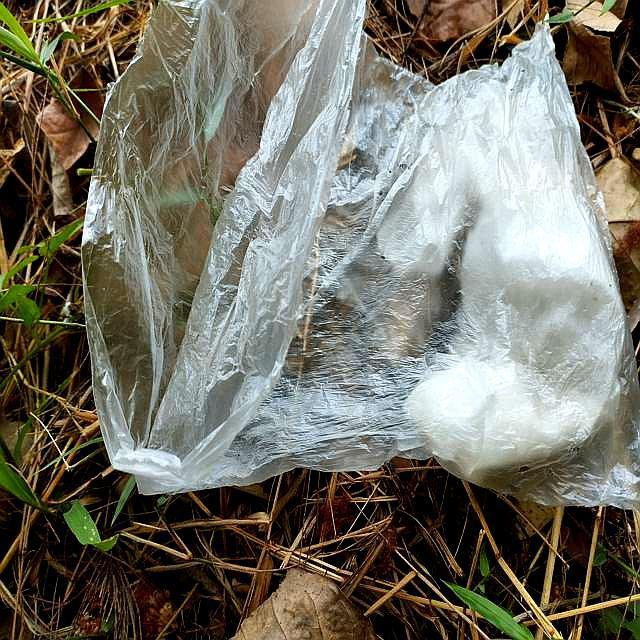Non-biodegradable: (80, 2, 636, 508)
